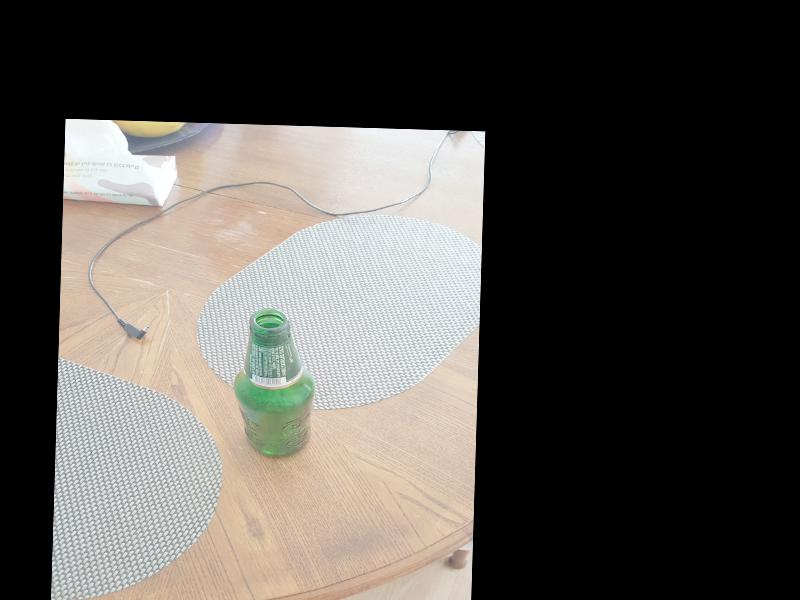Beer: (234, 306, 316, 459)
